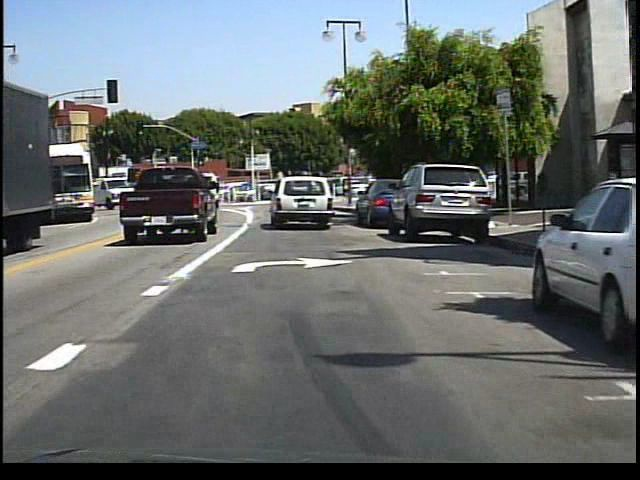person: (338, 178, 351, 204)
